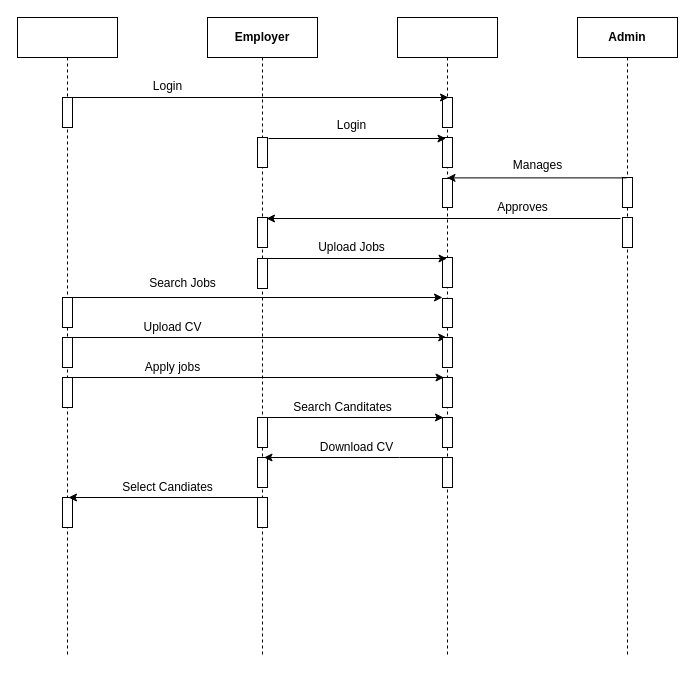
Some shapes in this 695 by 675 pixel diagram are drawn without their labels. Here are the shapes that lost their labels. From the top down, the centre of each, then its label:
At point 67,337: "JobSeeker".
At point 447,337: "Portal".
